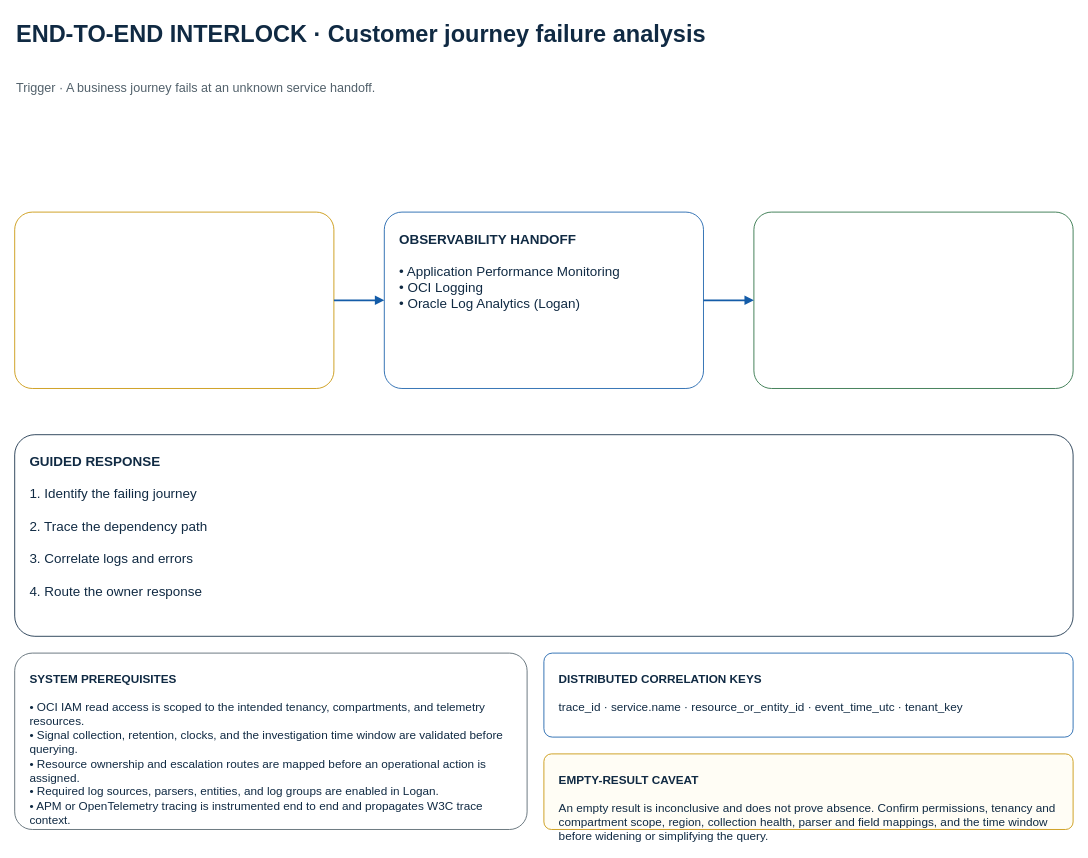
This 1088x858 diagram has some shape labels left out. The centre of each missing label's shape, as x and y in pixels:
"OPERATIONAL OUTCOME • Explain the affected journey and the failing dependency." belongs at pixel 913 299.
"SOURCE EVIDENCE • Application traces • Transaction logs • Dependency context" belongs at pixel 174 299.
